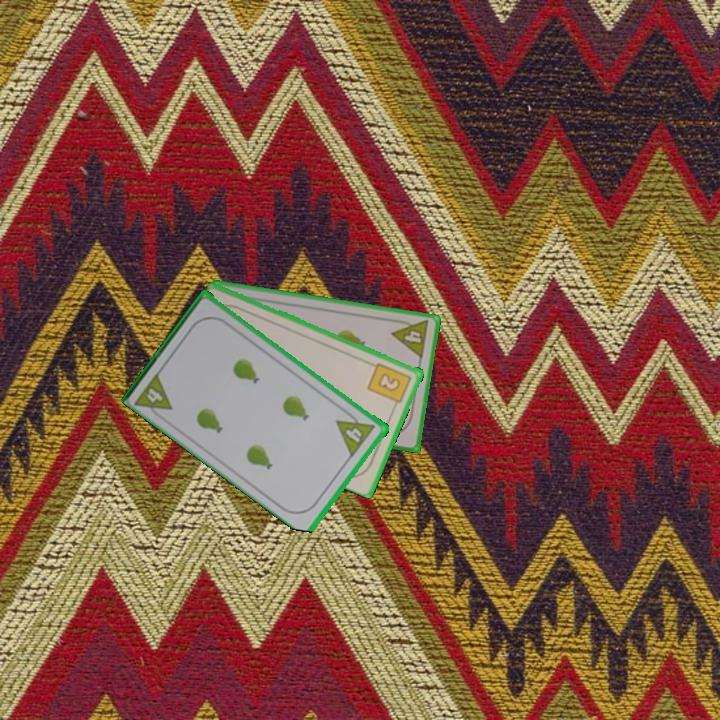2b: (364, 359, 414, 411)
4p: (131, 368, 176, 423), (333, 407, 378, 459), (388, 315, 432, 361)
